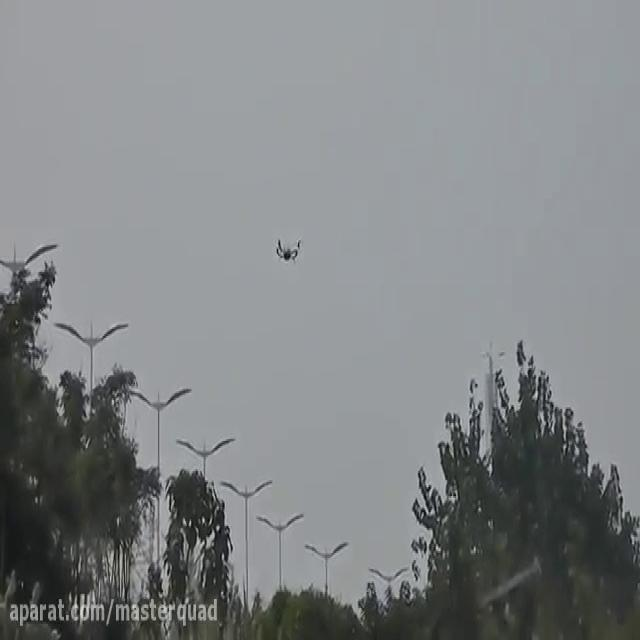drone: (272, 229, 306, 263)
